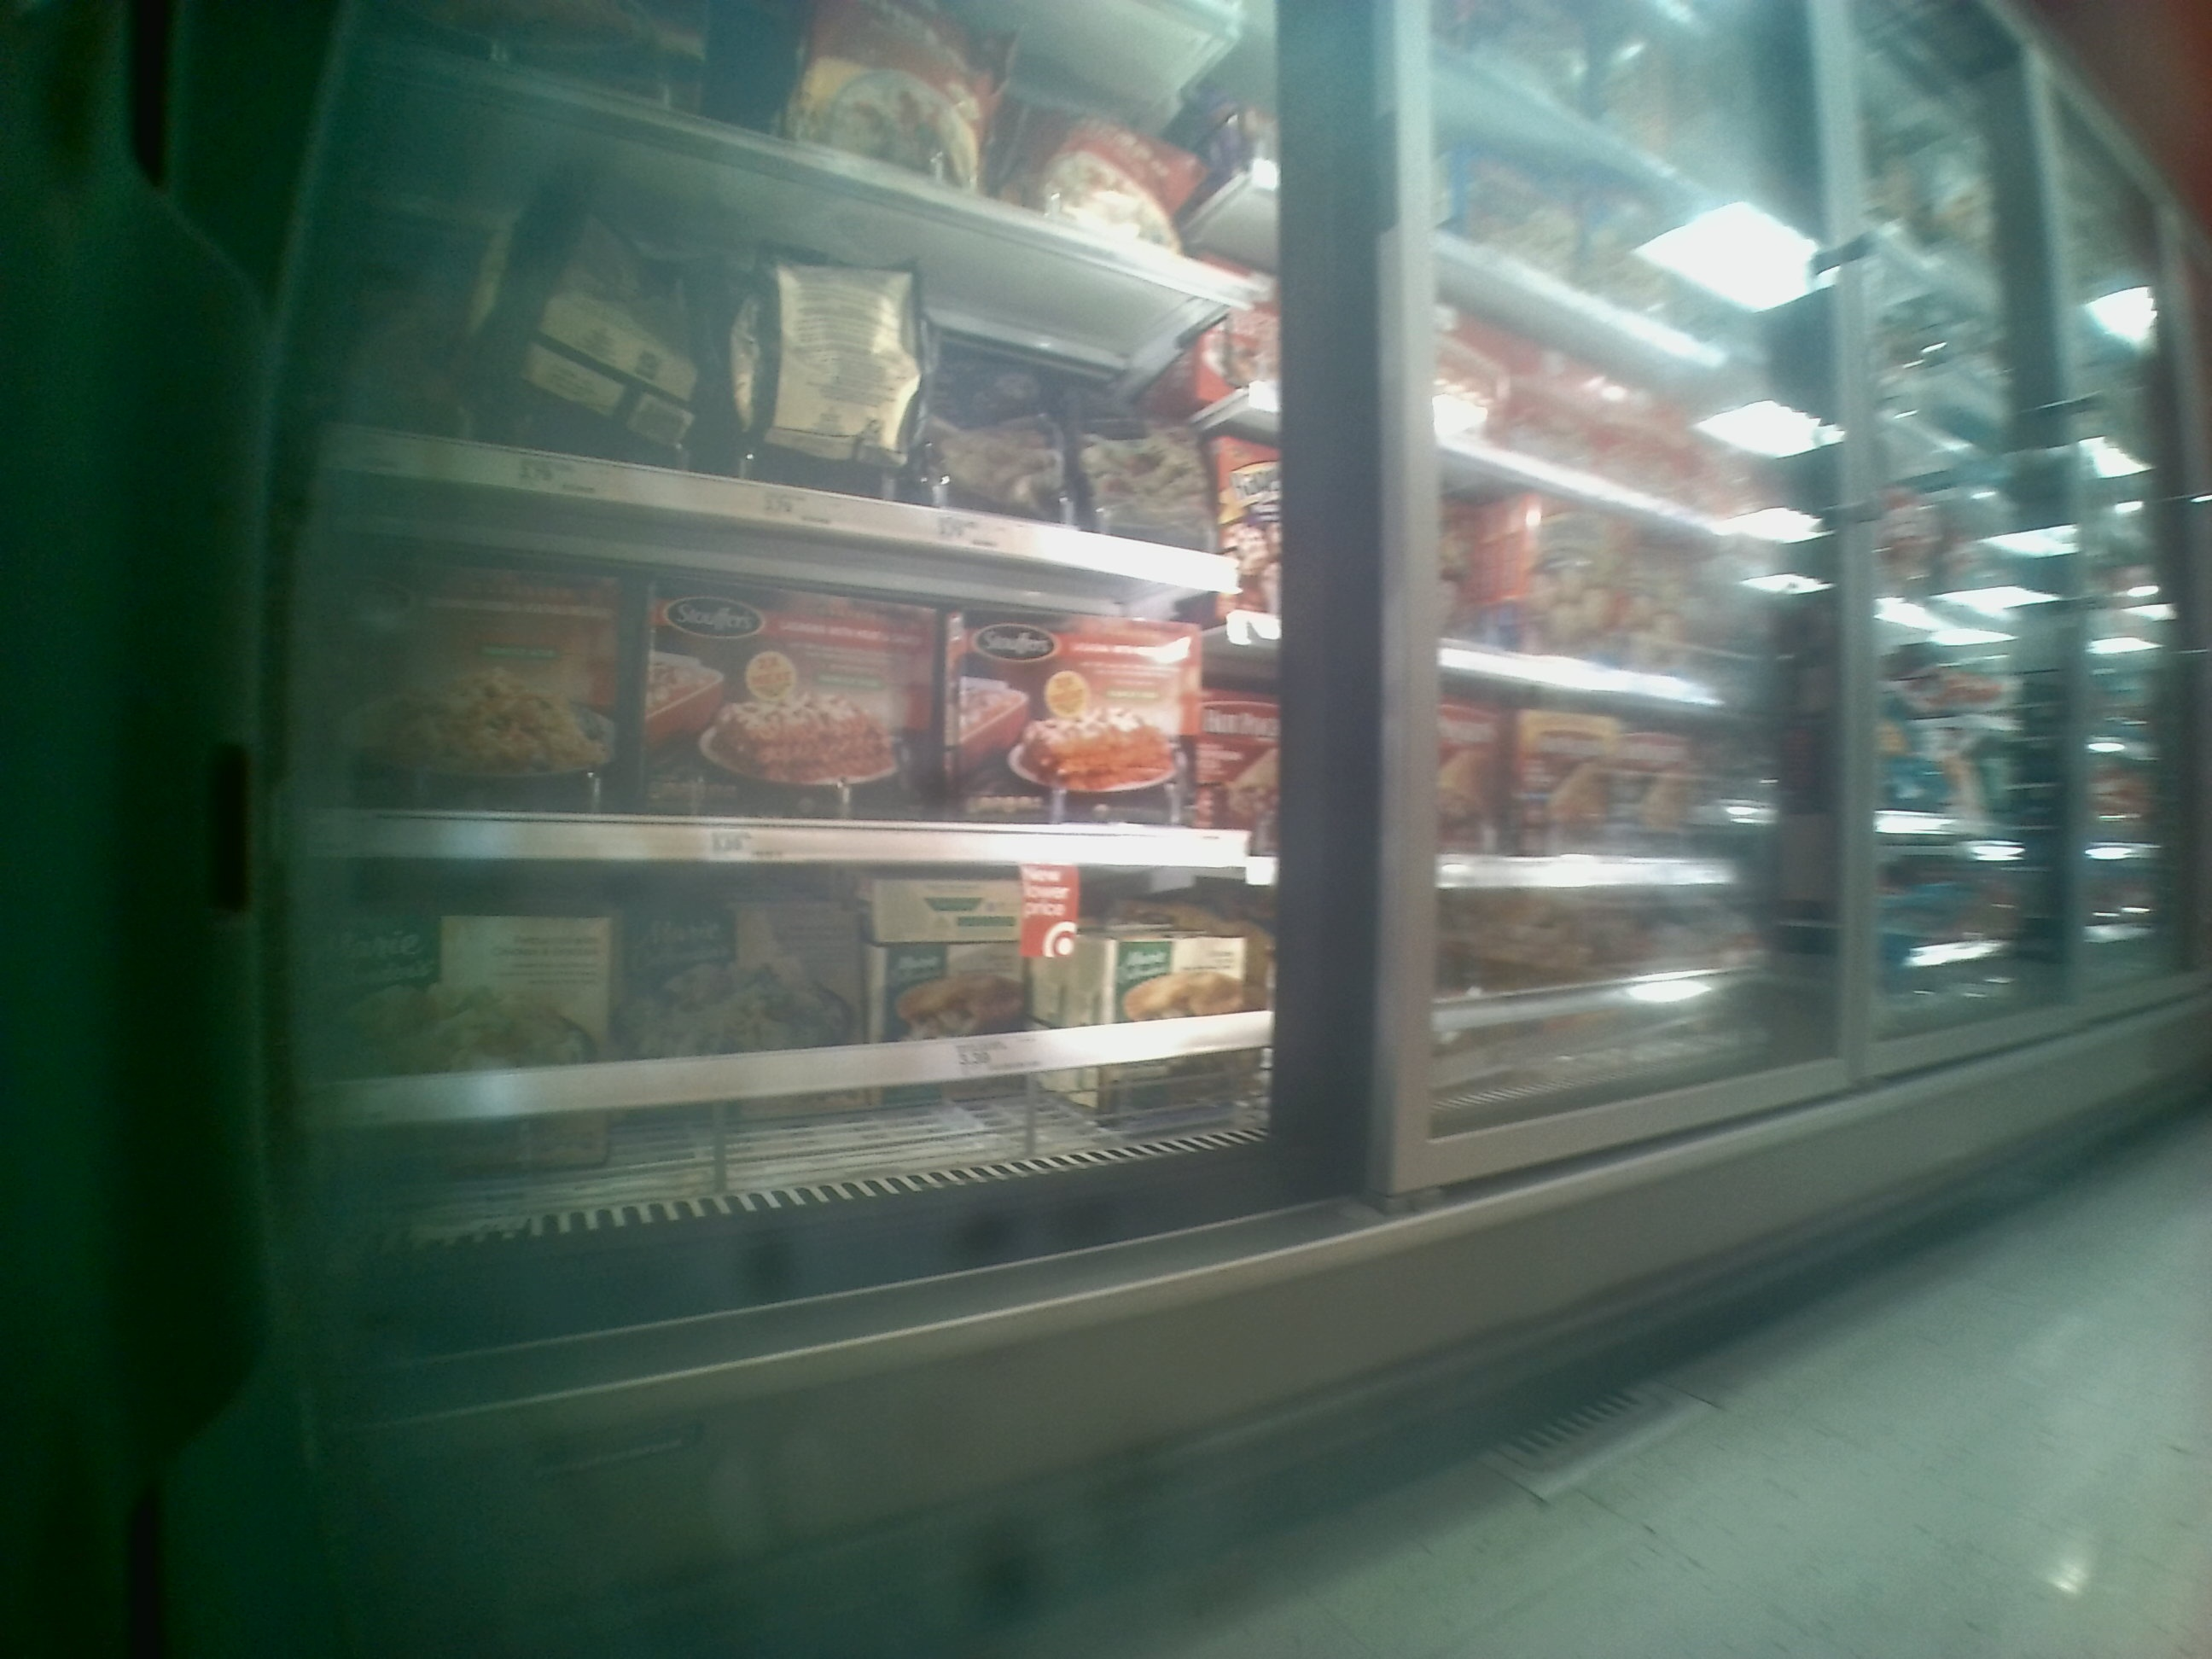shelf: (298, 859, 1275, 1263), (308, 467, 1280, 863)
